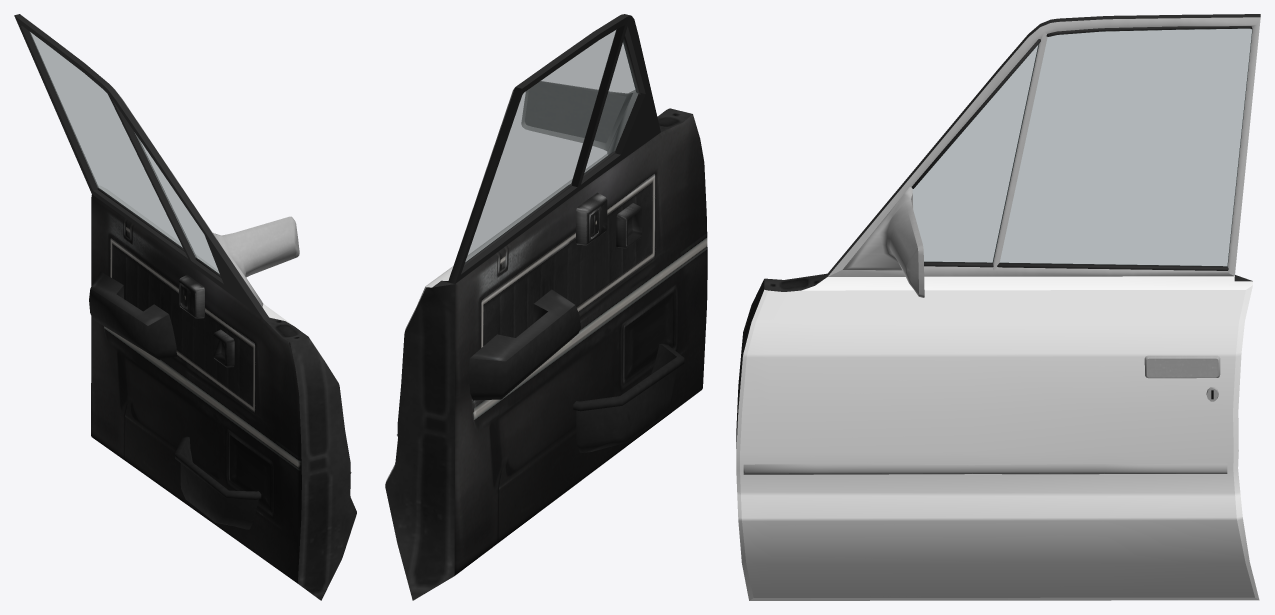
The model's file is DoorFR.obj.
3 renders of one model, left to right at view 1: azimuth 30°, elevation 25°; view 2: azimuth 150°, elevation 25°; view 3: azimuth 270°, elevation 25°, orthographic. The views are drawn at different scales.
Visible parts, largest first — view 1: Door_FL; view 2: Door_FL; view 3: Door_FL.
Part boxes in pixels (box(x1,y1,x2,y2)): Door_FL: box(14, 14, 356, 600); Door_FL: box(385, 14, 707, 600); Door_FL: box(736, 14, 1260, 600).
Bounding box in the file's own units: 7 × 21.16 × 18.83.
